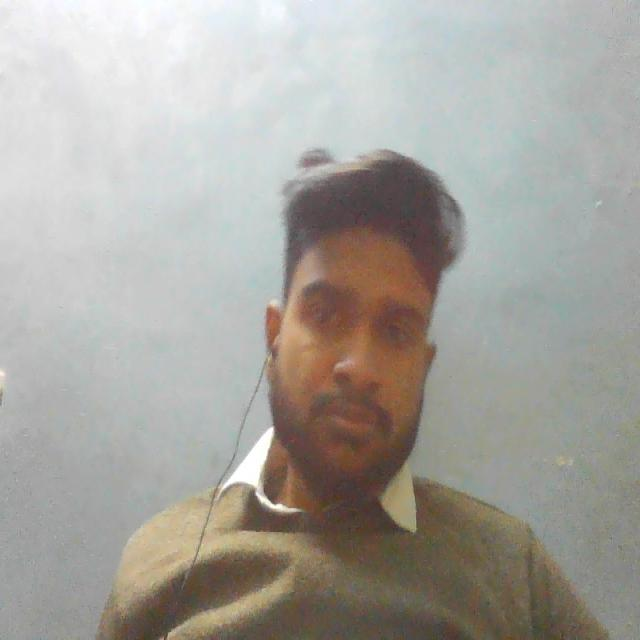real: (262, 145, 450, 500)
